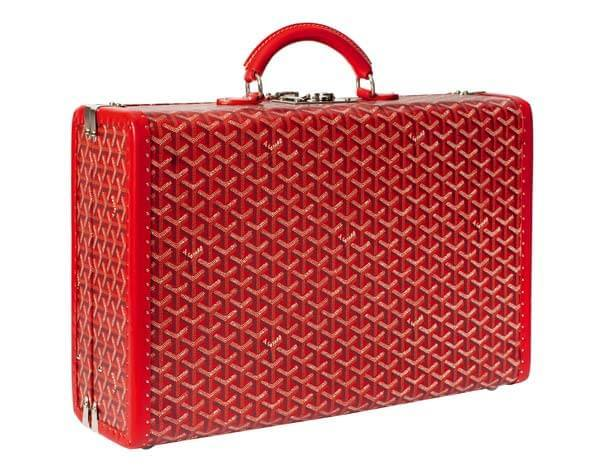shoutibox: (68, 23, 531, 451)
